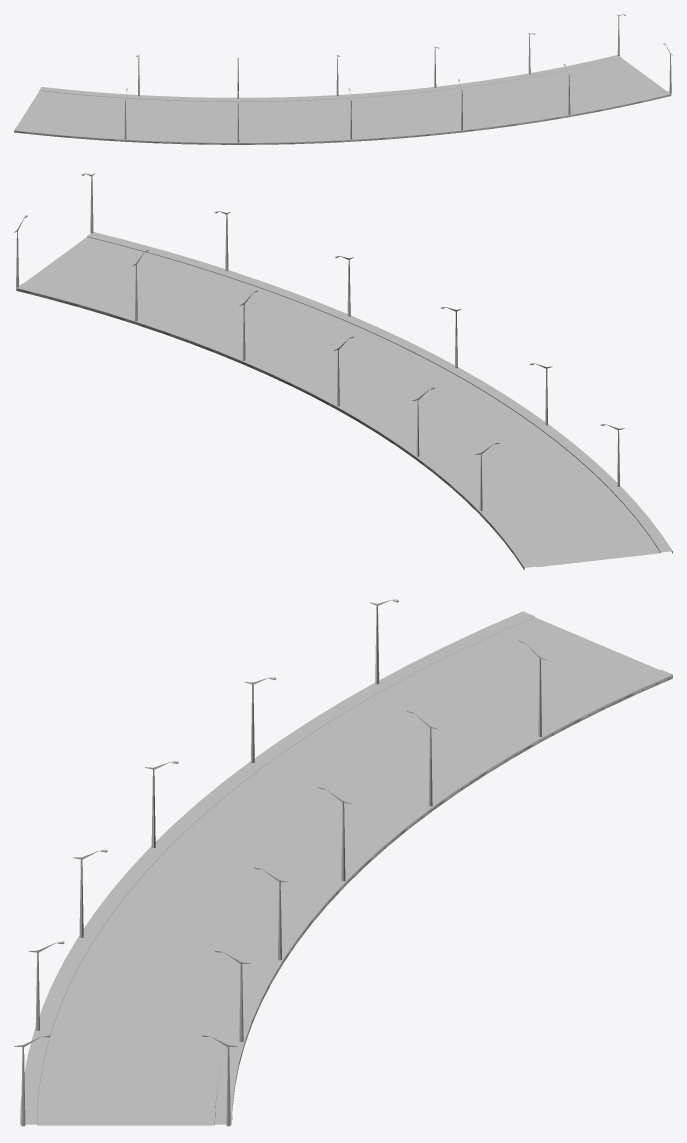
The model's file is Big_Road_45.FBX.
3 views of the same model, one above another, from view 1: azimuth 30°, elevation 25°; view 2: azimuth 150°, elevation 25°; view 3: azimuth 270°, elevation 25° (orthographic). The views are drawn at different scales.
Visible parts, largest first — view 1: Big_Road_45, city_light008; view 2: Big_Road_45, city_light008; view 3: Big_Road_45, city_light008.
Boxes of the visible parts, bbox=[...] form: Big_Road_45: bbox=[14, 55, 671, 144]; city_light008: bbox=[124, 14, 672, 142]; Big_Road_45: bbox=[16, 232, 672, 570]; city_light008: bbox=[14, 173, 624, 510]; Big_Road_45: bbox=[20, 611, 672, 1125]; city_light008: bbox=[14, 599, 547, 1126].
Bounding box in the file's own units: 13018 × 1104 × 7050.
